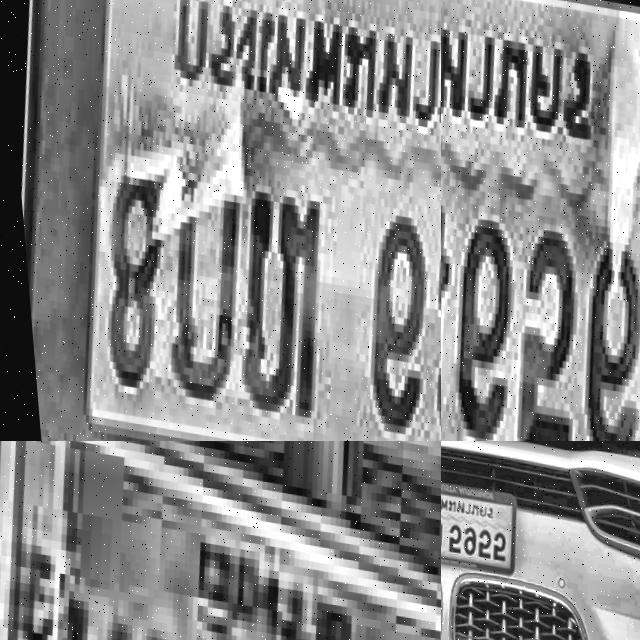license-plate: (0, 0, 441, 441), (441, 0, 640, 441), (0, 441, 441, 640), (441, 463, 521, 574)
